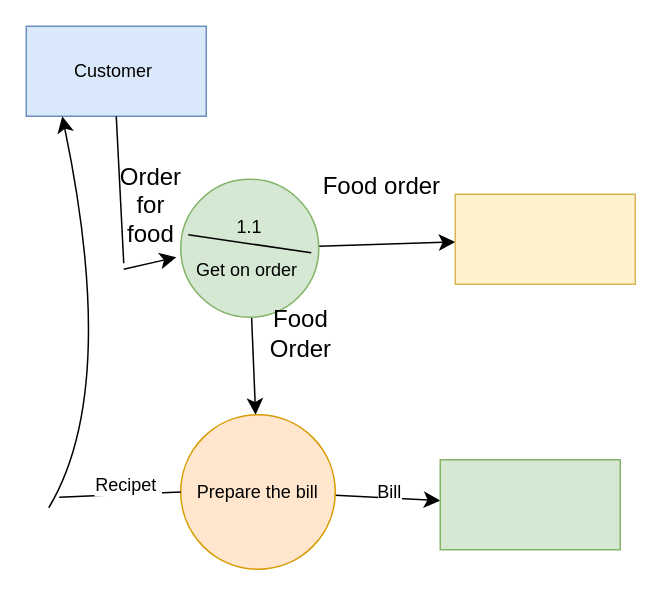
The diagram is 662 pixels wide and 596 high, and some of its shapes have lost their labels. Here are the shapes that lost their labels. From the top down, the centre of each, then its label:
point (544, 238): Kitchen
point (529, 504): Restuarant manager
